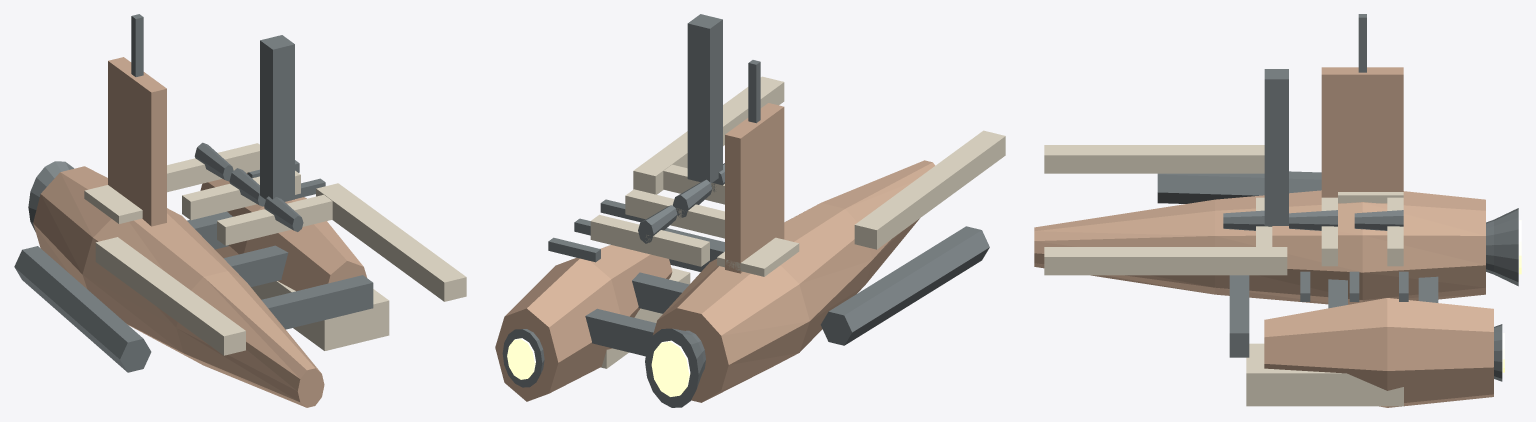
3 views of the same model, side by side, from view 1: azimuth 30°, elevation 25°; view 2: azimuth 150°, elevation 25°; view 3: azimuth 270°, elevation 25° (orthographic). The views are drawn at different scales.
Size of the model in its own units: 6.97 by 6.97 by 9.63.
